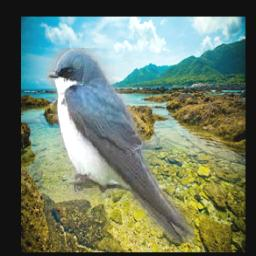Swallow: (46, 48, 194, 243)
